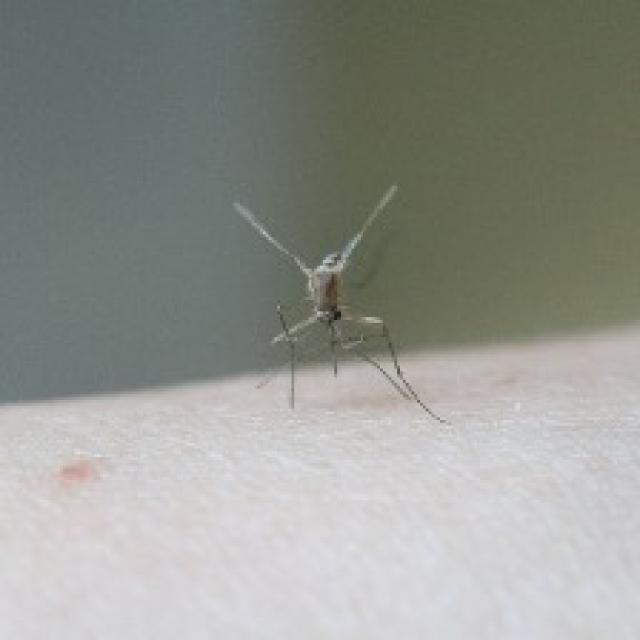culex: (228, 180, 446, 423)
